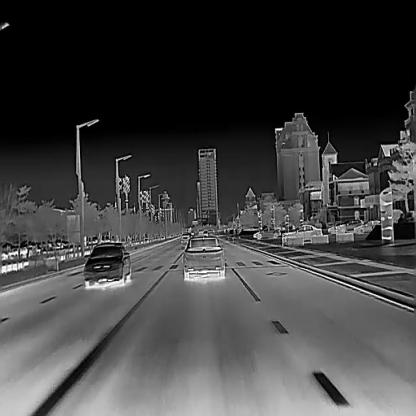car: (80, 241, 131, 285), (182, 234, 225, 280), (282, 223, 324, 240), (353, 218, 381, 233), (252, 226, 281, 238), (335, 218, 363, 229), (326, 223, 338, 234), (180, 230, 191, 240)
